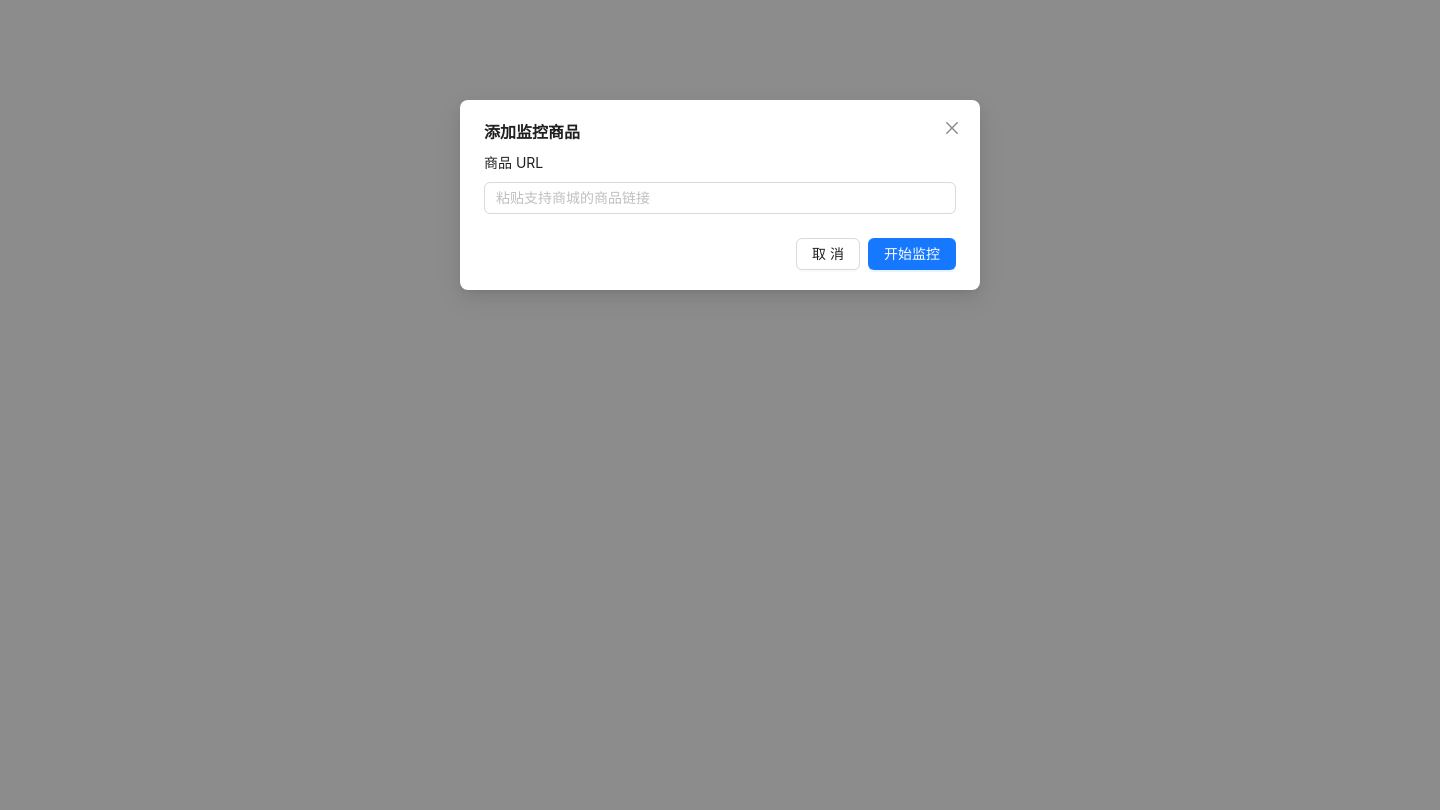
AddProductModal › keeps modal open and shows API error
Step 1. Type "https://smokingpipes.com/p/1" into the field labelled "商品 URL" → (720, 198), box [484, 182, 956, 214]
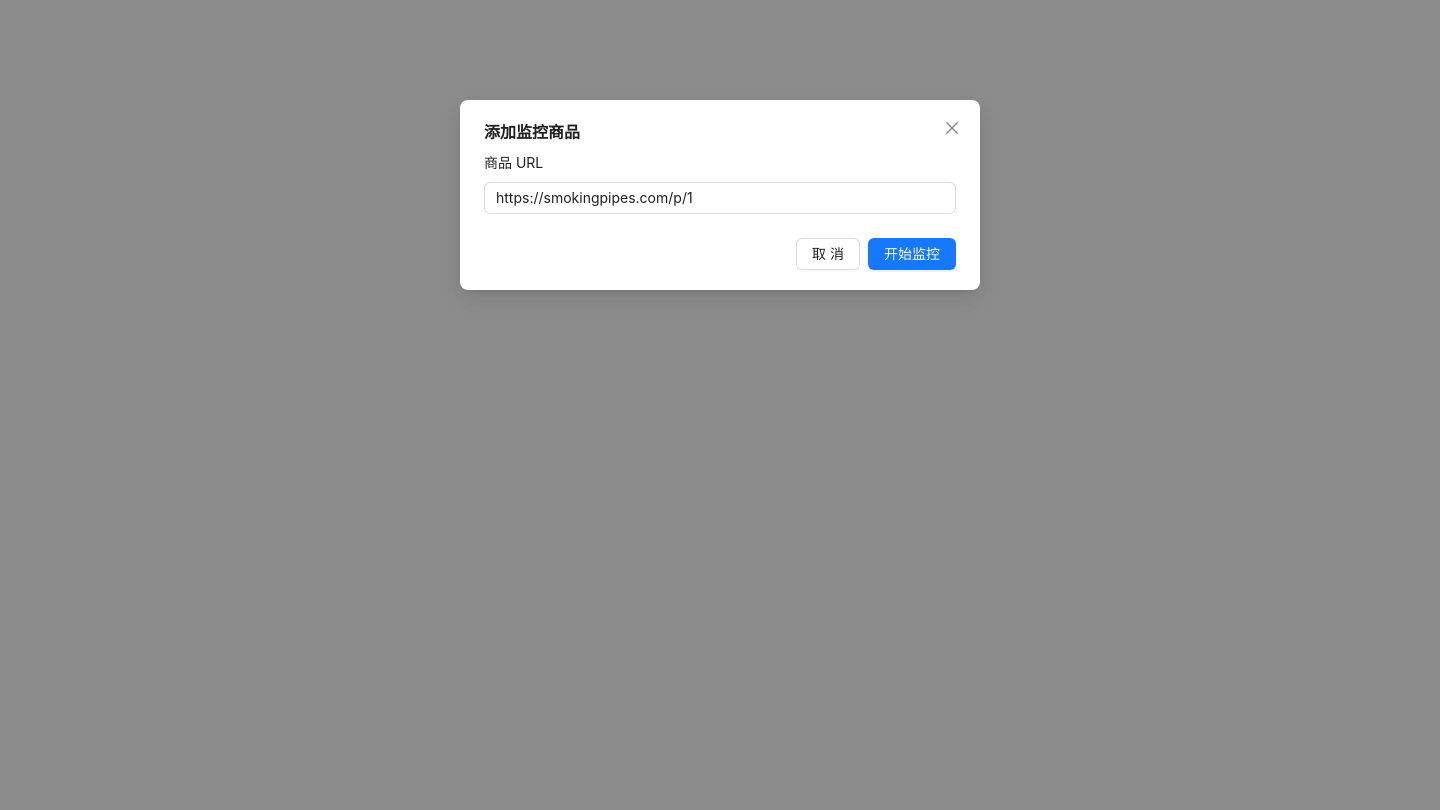
Step 2. Click the button "开始监控" → (912, 254), box [868, 238, 956, 270]
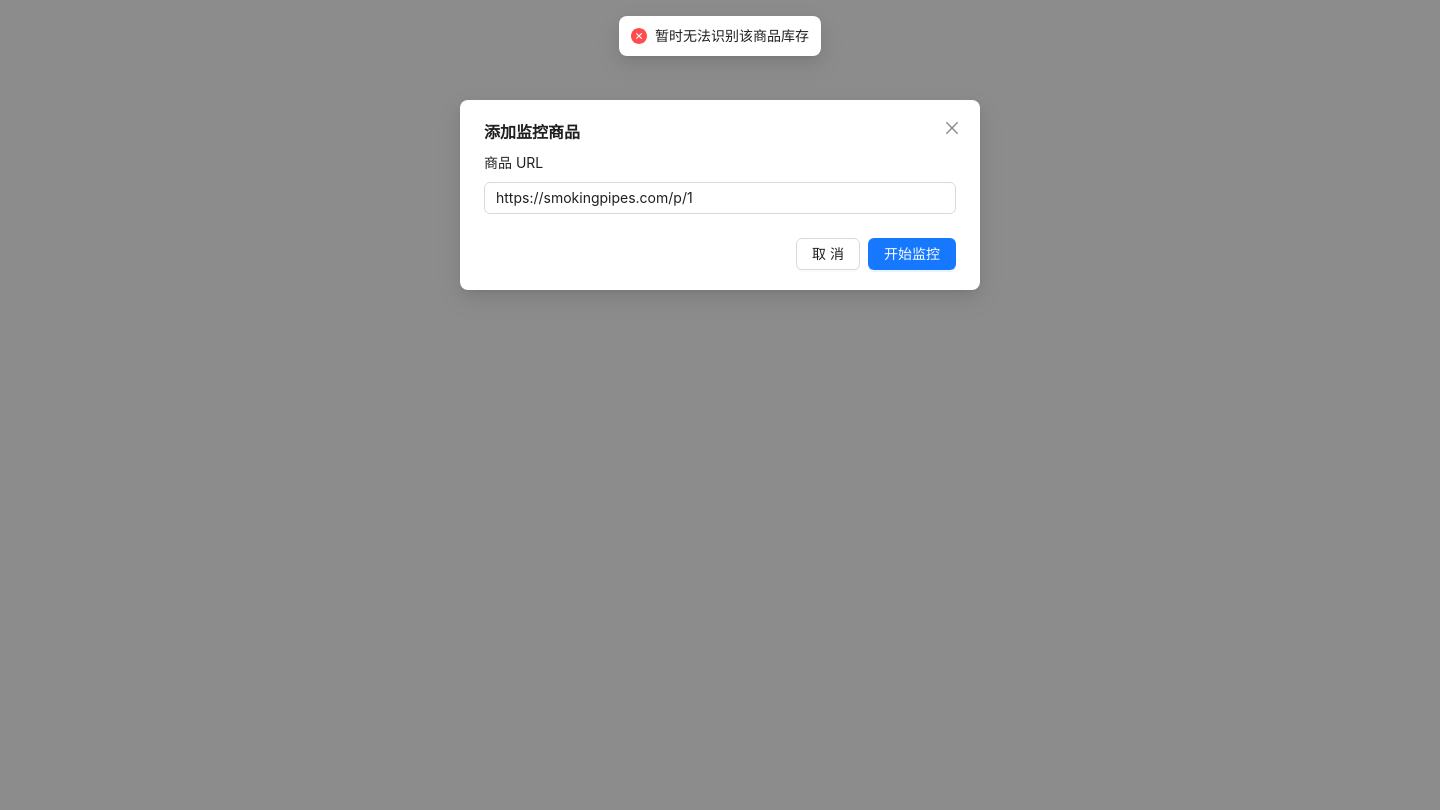
Result: the text "暂时无法识别该商品库存" is shown at [655, 25, 809, 47]
